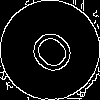O: (25, 25, 86, 86)
